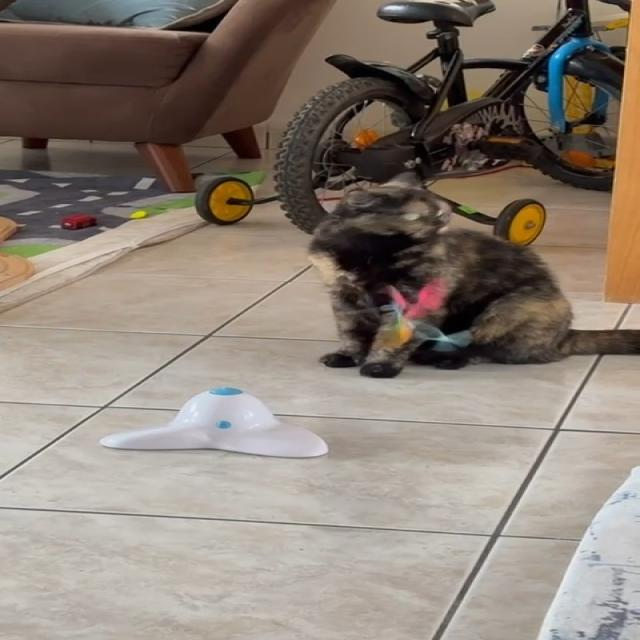authorized: (305, 181, 639, 377)
